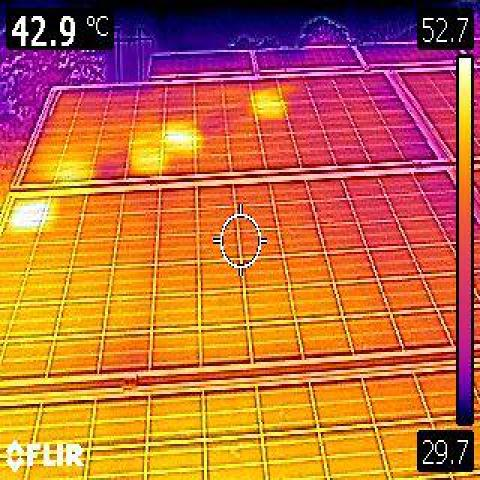fault: (12, 200, 42, 228), (255, 94, 284, 114), (167, 126, 193, 147)
